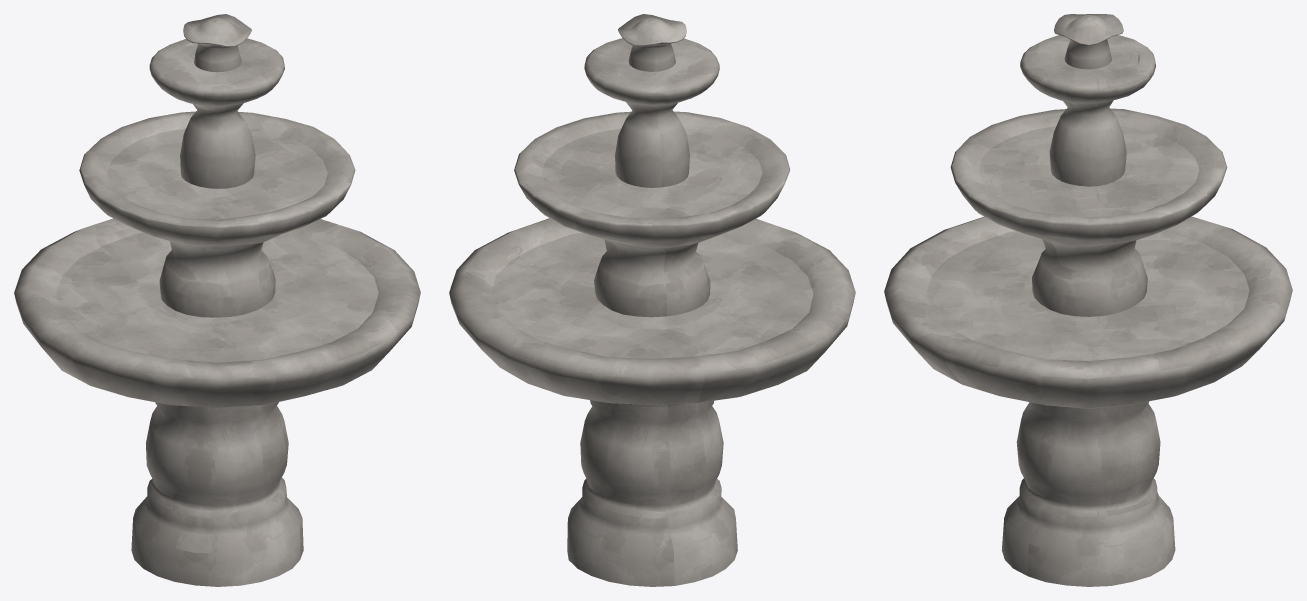
File: Big Fountain.fbx
3 views of the same model, side by side, from view 1: azimuth 30°, elevation 25°; view 2: azimuth 150°, elevation 25°; view 3: azimuth 270°, elevation 25° (orthographic).
Parts seen in each view (by area): view 1: Big Fountain_Baked; view 2: Big Fountain_Baked; view 3: Big Fountain_Baked.
Boxes of the visible parts, box(x1,y1,x2,y2) form: Big Fountain_Baked: box(14, 14, 420, 586); Big Fountain_Baked: box(449, 14, 855, 586); Big Fountain_Baked: box(884, 14, 1292, 586).
Bounding box in the file's own units: 178 × 254 × 176.
1 material, 1 textured.
